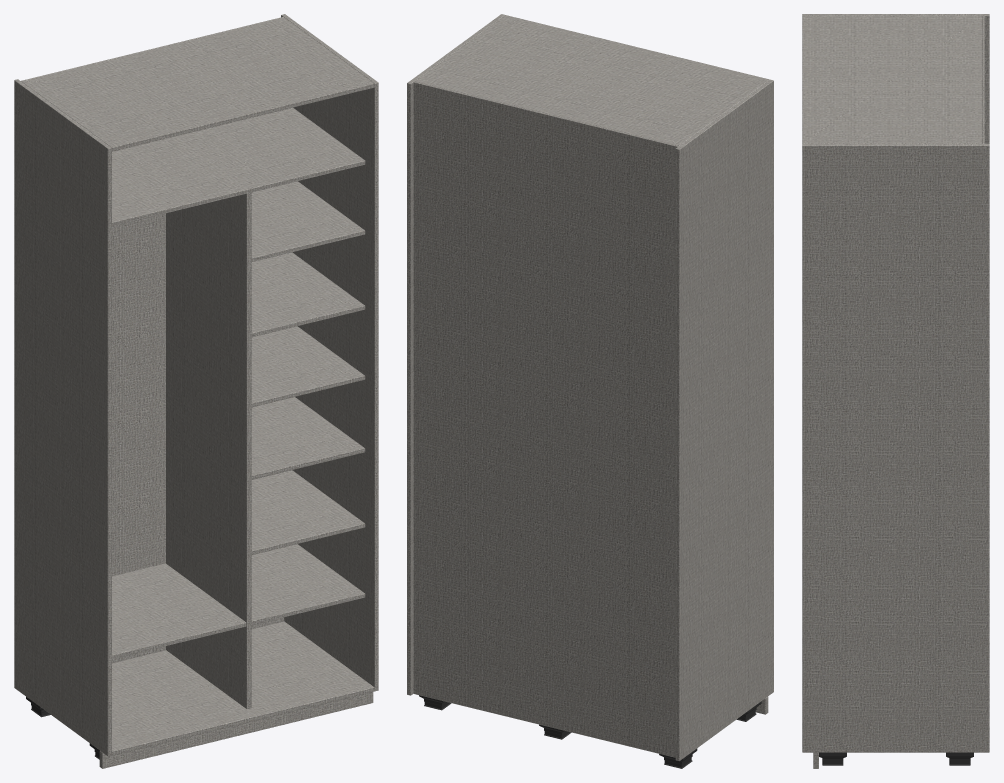
File: cbib12157.gltf
The picture shows the model from 3 angles, left to right: view 1: azimuth 30°, elevation 25°; view 2: azimuth 150°, elevation 25°; view 3: azimuth 270°, elevation 25°; orthographic projection.
Parts seen in each view (by area): view 1: CBIB12157; view 2: CBIB12157; view 3: CBIB12157.
Part boxes in pixels (<box>): CBIB12157: <box>14,14,378,768</box>; CBIB12157: <box>407,14,773,768</box>; CBIB12157: <box>802,14,989,768</box>.
Size of the model in its own units: 1 by 2.2 by 0.6.
3 materials, 2 textured.
